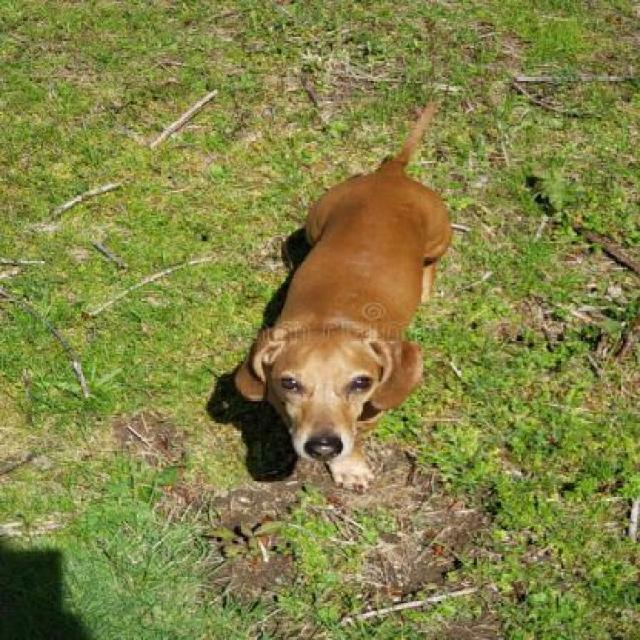Dog: (237, 77, 460, 491)
